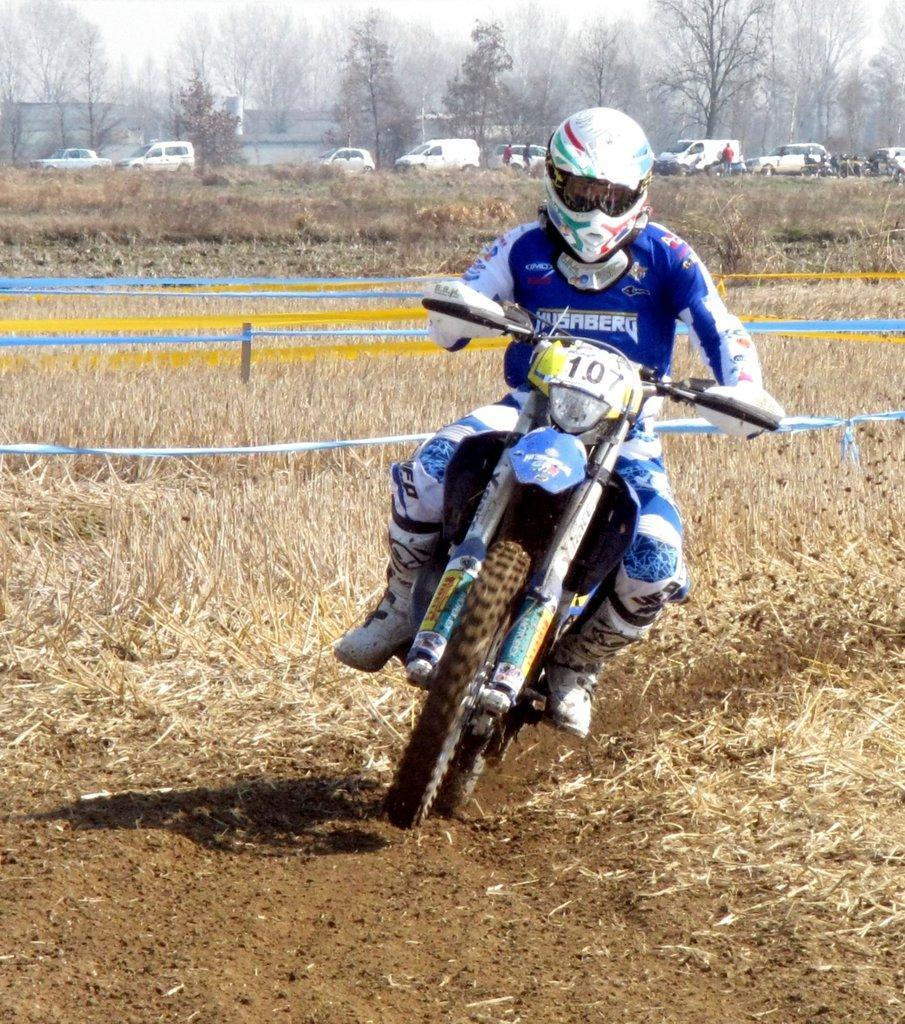helmet: (543, 107, 656, 265)
